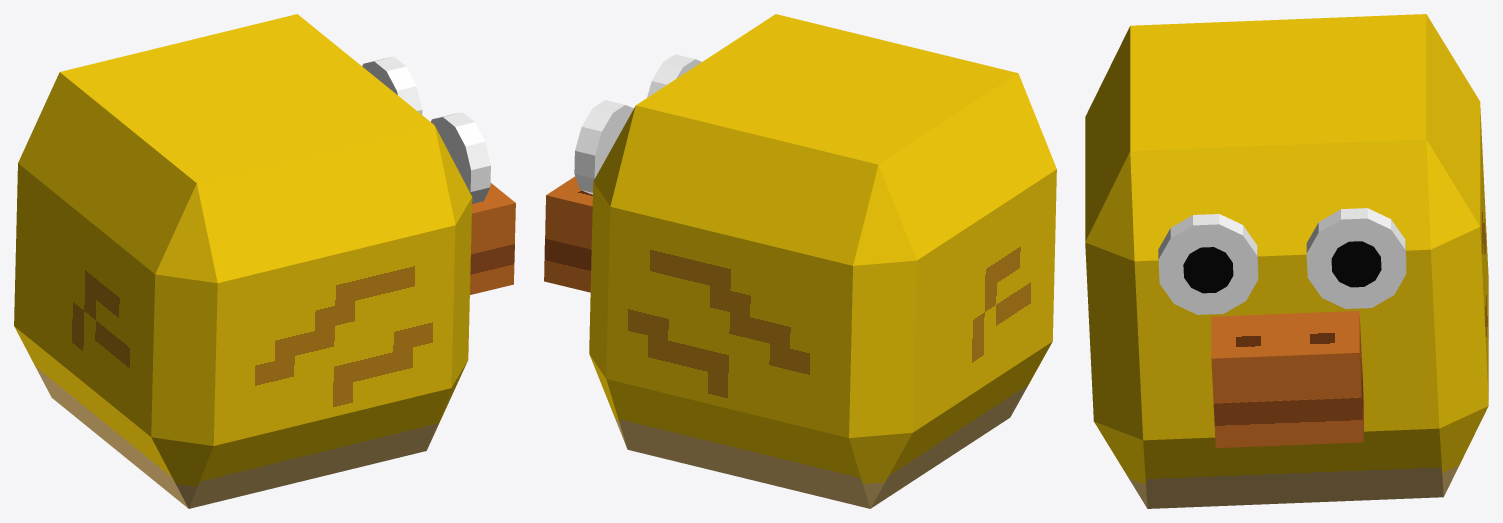
The model's file is item-duck-sergeant.glb.
The picture shows the model from 3 angles, left to right: view 1: azimuth 30°, elevation 25°; view 2: azimuth 150°, elevation 25°; view 3: azimuth 270°, elevation 25°; orthographic projection. The views are drawn at different scales.
Bounding box in the file's own units: 0.4398 × 0.363 × 0.3591.
Materials: 6 (6 with a texture image).
